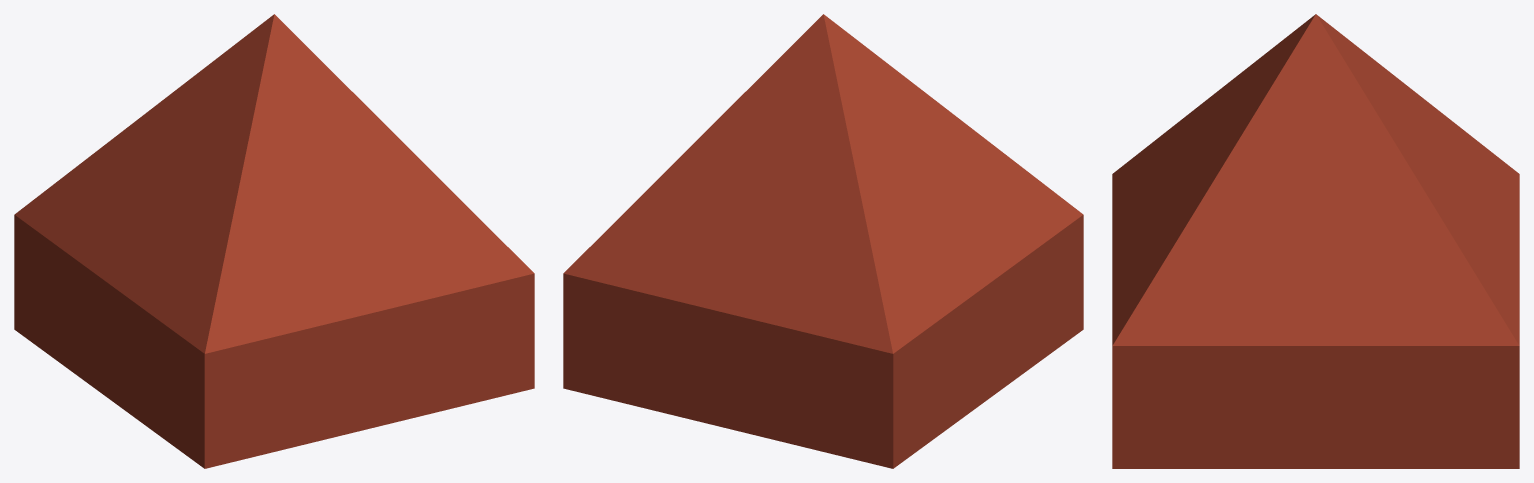
Rendered from Dach_Szczyt.fbx.
The picture shows the model from 3 angles, left to right: view 1: azimuth 30°, elevation 25°; view 2: azimuth 150°, elevation 25°; view 3: azimuth 270°, elevation 25°; orthographic projection. The views are drawn at different scales.
Visible parts, largest first — view 1: Dach_Szczyt; view 2: Dach_Szczyt; view 3: Dach_Szczyt.
Part boxes in pixels (bbox=[...]): Dach_Szczyt: bbox=[14, 14, 534, 468]; Dach_Szczyt: bbox=[563, 14, 1083, 468]; Dach_Szczyt: bbox=[1112, 14, 1519, 468].
Bounding box in the file's own units: 3 × 3 × 3.
